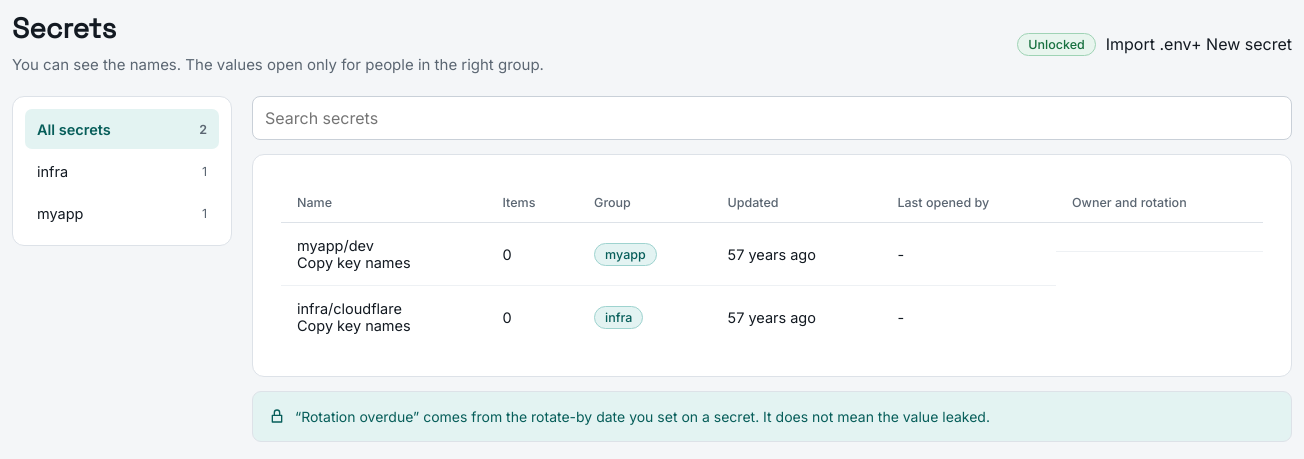
it: secrets list › filters by search text
Step 1. Type "infra" into the search field with id "secret-search" → (772, 118), box [252,96,1292,140]
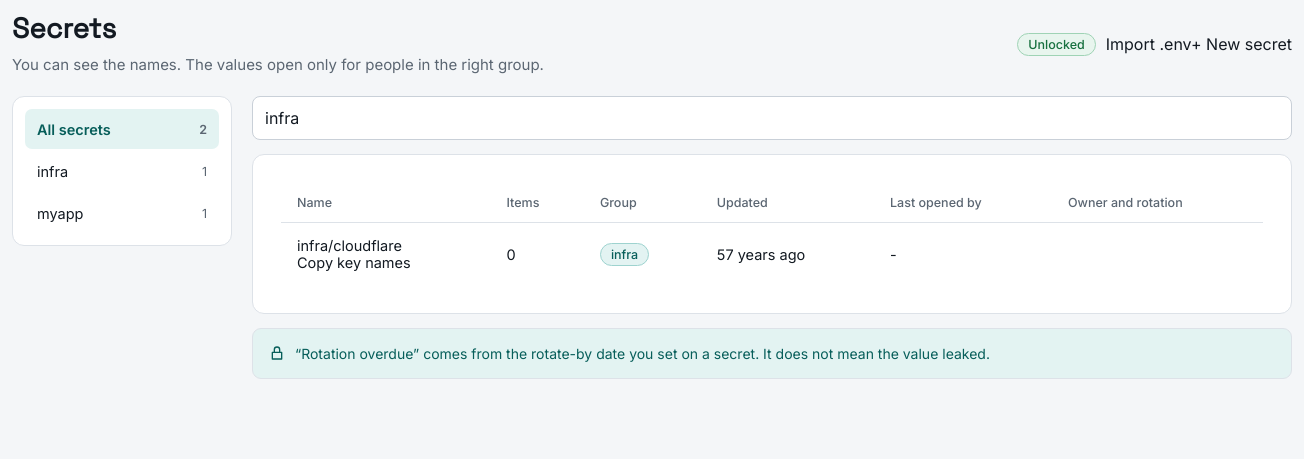
expect the text "infra/cloudflare" is shown: met, box [297,237,402,254]
expect the text "myapp/dev" is gone: met
